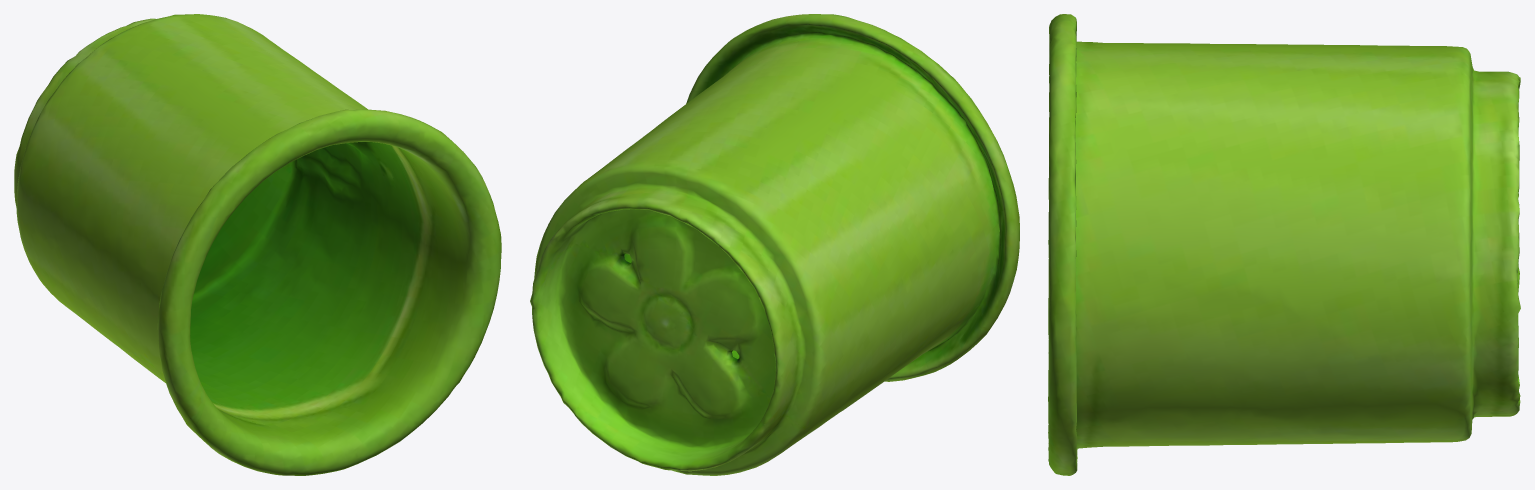
File: ddg-ycb_065-c_cups.glb
3 views of the same model, side by side, from view 1: azimuth 30°, elevation 25°; view 2: azimuth 150°, elevation 25°; view 3: azimuth 270°, elevation 25° (orthographic). The views are drawn at different scales.
Parts seen in each view (by area): view 1: textured(Clone); view 2: textured(Clone); view 3: textured(Clone).
Boxes of the visible parts, <box> form: textured(Clone): <box>14,14,501,475</box>; textured(Clone): <box>530,14,1019,475</box>; textured(Clone): <box>1048,14,1520,475</box>.
Size of the model in its own units: 1.42 by 1.42 by 1.45.
Materials: 1 (1 with a texture image).
